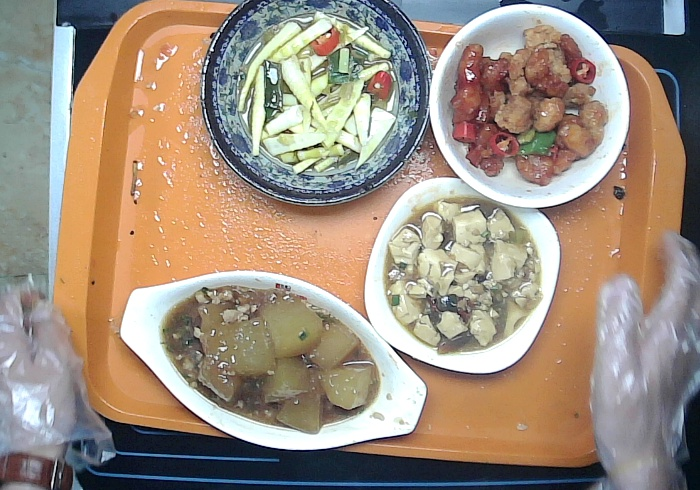ZNLD-Qing_Hua_Wan: (196, 1, 442, 213)
ZNLD-Si_Fang_Wan: (362, 170, 570, 384)
ZNLD-Tang_Wan: (425, 1, 632, 216)
ZNLD-Yu_Pan: (114, 263, 435, 459)
